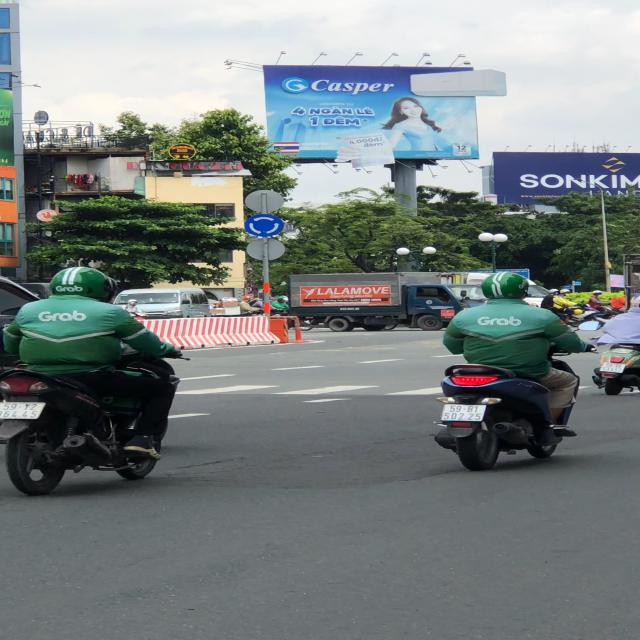Bien bao noi giao nhau chay theo vong xuyen: (243, 214, 287, 238)
